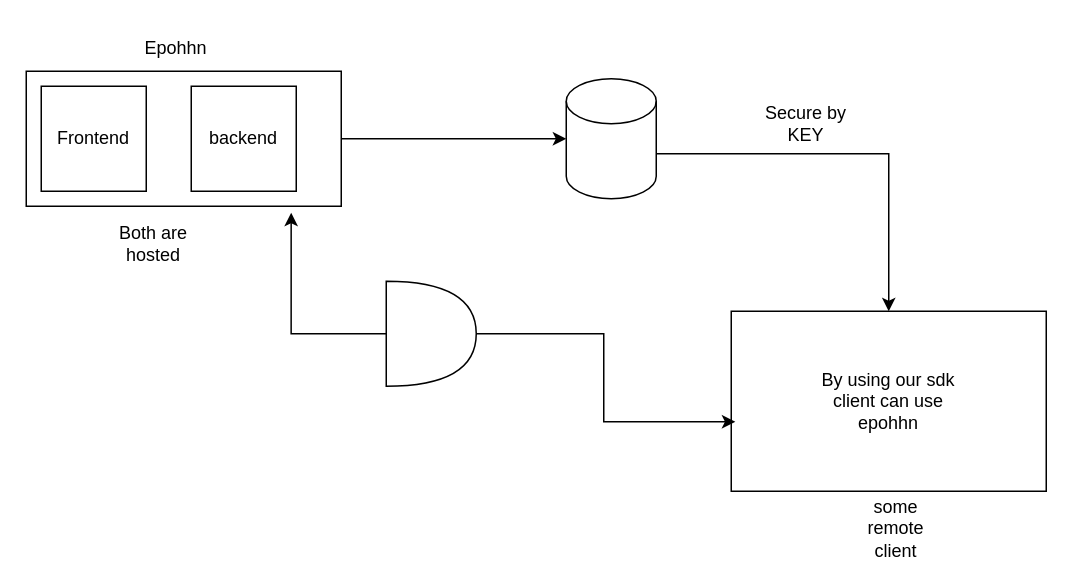
This 1073x587 diagram has some shape labels left out. Each missing label, with the box of its shape:
KEY: (385, 280, 476, 386)
SDK: (565, 77, 656, 199)
